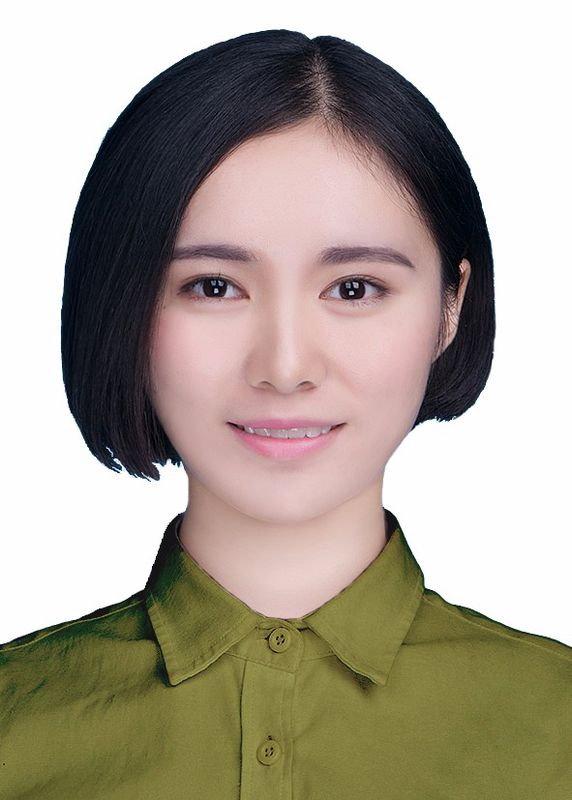unmask: (163, 157, 431, 504)
